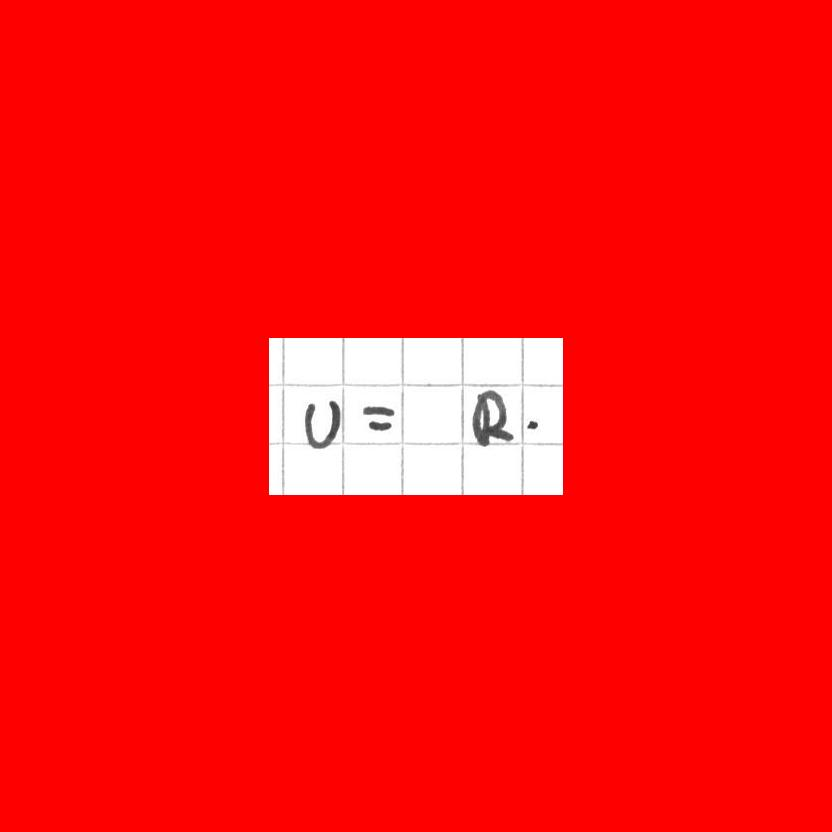Char: (468, 387, 515, 446), (300, 393, 344, 450), (360, 399, 396, 437), (522, 412, 543, 438)
